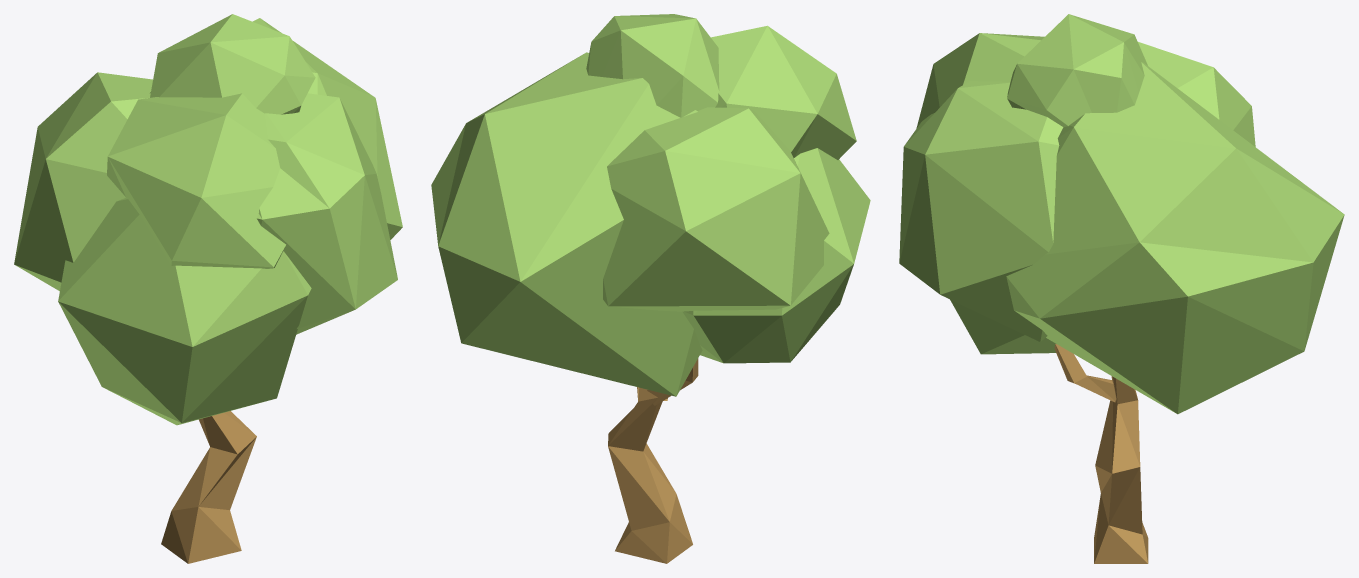
File: ArvoreMedia.fbx
3 views of the same model, side by side, from view 1: azimuth 30°, elevation 25°; view 2: azimuth 150°, elevation 25°; view 3: azimuth 270°, elevation 25° (orthographic). The views are drawn at different scales.
Visible parts, largest first — view 1: arvore_media; view 2: arvore_media; view 3: arvore_media.
Boxes of the visible parts, left/top/right/bottom form: arvore_media: left=14, top=14, right=402, bottom=563; arvore_media: left=431, top=14, right=870, bottom=563; arvore_media: left=899, top=14, right=1344, bottom=563.
Size of the model in its own units: 10.92 by 14.92 by 11.4.
